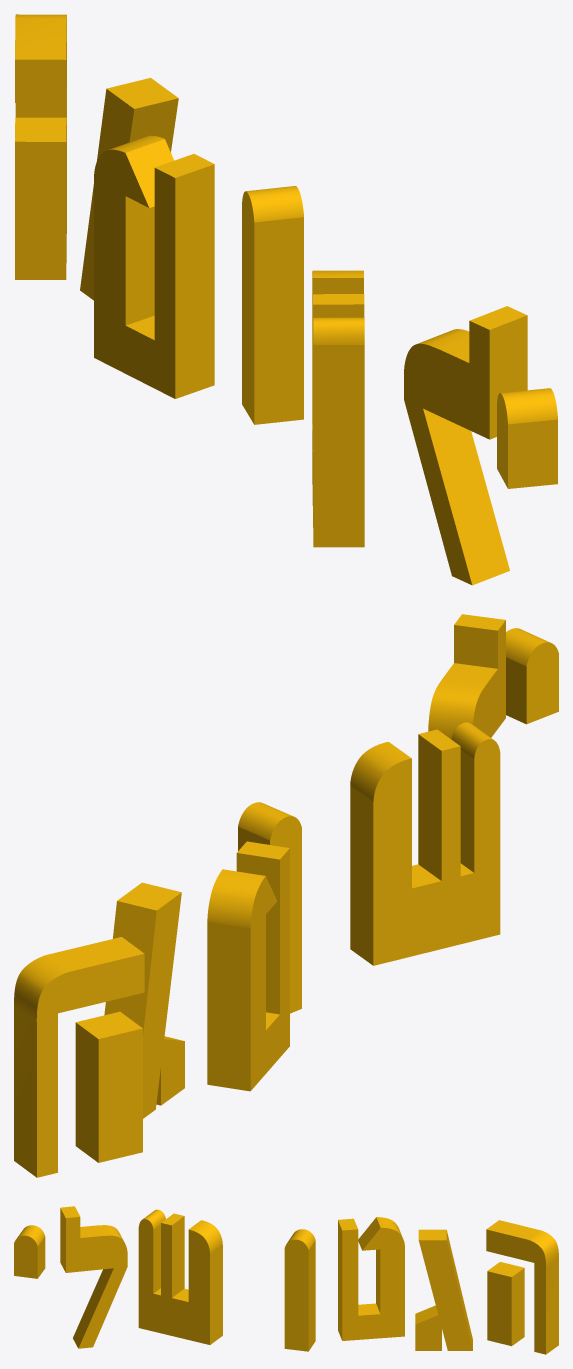
The model's file is 09_title.gltf.
3 renders of one model, top to bottom at view 1: azimuth 30°, elevation 25°; view 2: azimuth 150°, elevation 25°; view 3: azimuth 270°, elevation 25°, orthographic. The views are drawn at different scales.
Visible parts, largest first — view 1: Cap 1 (×5), נפח.5, נפח.3, נפח.7, נפח.4, נפח.2, נפח.1, נפח.6; view 2: Cap 1 (×7), נפח.5, נפח.3, נפח.7, נפח.2, נפח.6, נפח.1, נפח.4; view 3: Cap 2 (×7), נפח.3, נפח.7, נפח.5, נפח.2, נפח.4, נפח.6, נפח.1.
Boxes of the visible parts, x1,y1,x2,y2 form: Cap 1 (×5): [80, 89, 507, 584]; נפח.5: [109, 135, 214, 398]; נפח.3: [312, 270, 364, 547]; נפח.7: [15, 14, 66, 279]; נפח.4: [246, 186, 303, 424]; נפח.2: [417, 306, 527, 585]; נפח.1: [501, 388, 557, 488]; נפח.6: [106, 78, 178, 152]; Cap 1 (×7): [36, 620, 558, 1177]; נפח.5: [207, 841, 289, 1091]; נפח.3: [350, 722, 493, 965]; נפח.7: [14, 937, 143, 1177]; נפח.2: [428, 614, 505, 738]; נפח.6: [104, 882, 183, 1105]; נפח.1: [506, 628, 550, 724]; נפח.4: [238, 802, 292, 850]; Cap 2 (×7): [14, 1217, 545, 1354]; נפח.3: [143, 1209, 222, 1344]; נפח.7: [486, 1220, 558, 1354]; נפח.5: [338, 1217, 402, 1340]; נפח.2: [60, 1206, 123, 1348]; נפח.4: [287, 1229, 315, 1350]; נפח.6: [415, 1229, 472, 1349]; נפח.1: [17, 1225, 45, 1278].
Size of the model in its own units: 666 by 1132 by 4245.
